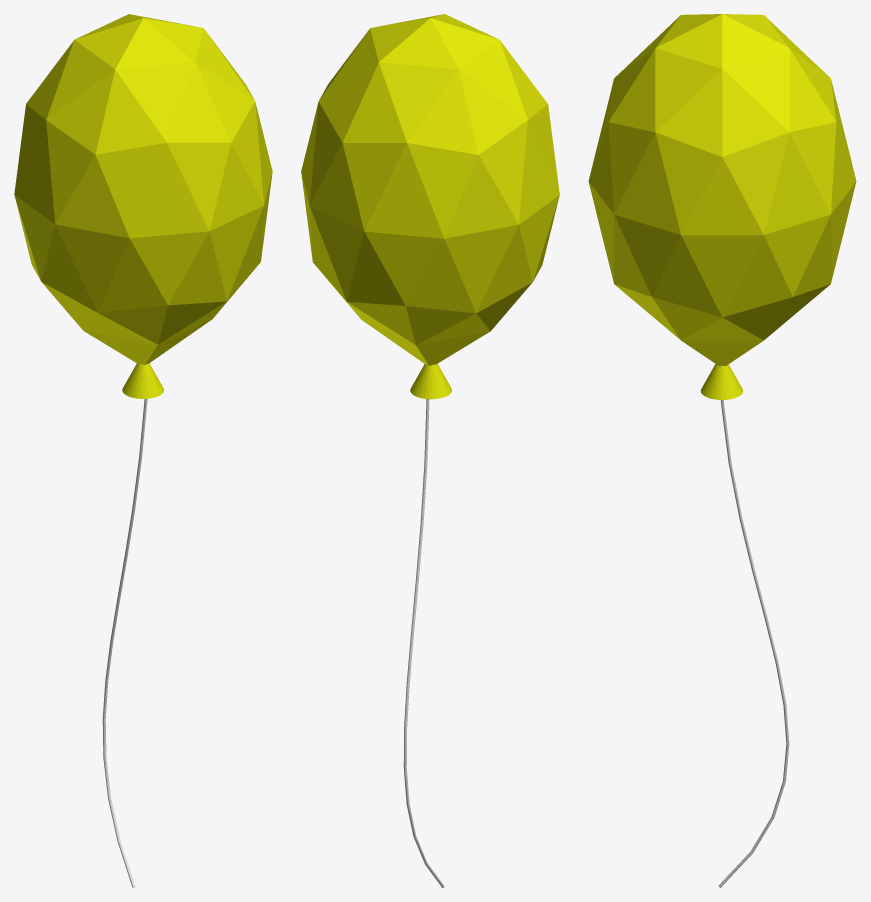
File: balloon.glb
3 renders of one model, left to right at view 1: azimuth 30°, elevation 25°; view 2: azimuth 150°, elevation 25°; view 3: azimuth 270°, elevation 25°, orthographic.
Parts seen in each view (by area): view 1: Icosphere, BezierCurve, Cone; view 2: Icosphere, BezierCurve, Cone; view 3: Icosphere, BezierCurve, Cone.
Part boxes in pixels (bbox=[...]): Icosphere: bbox=[14, 14, 272, 364]; BezierCurve: bbox=[102, 399, 147, 887]; Cone: bbox=[122, 363, 163, 398]; Icosphere: bbox=[301, 14, 559, 365]; BezierCurve: bbox=[403, 399, 444, 887]; Cone: bbox=[410, 364, 451, 399]; Icosphere: bbox=[588, 14, 856, 366]; BezierCurve: bbox=[718, 365, 789, 887]; Cone: bbox=[701, 364, 742, 399].
Bounding box in the file's own units: 0.8285 × 3.15 × 0.8712.
